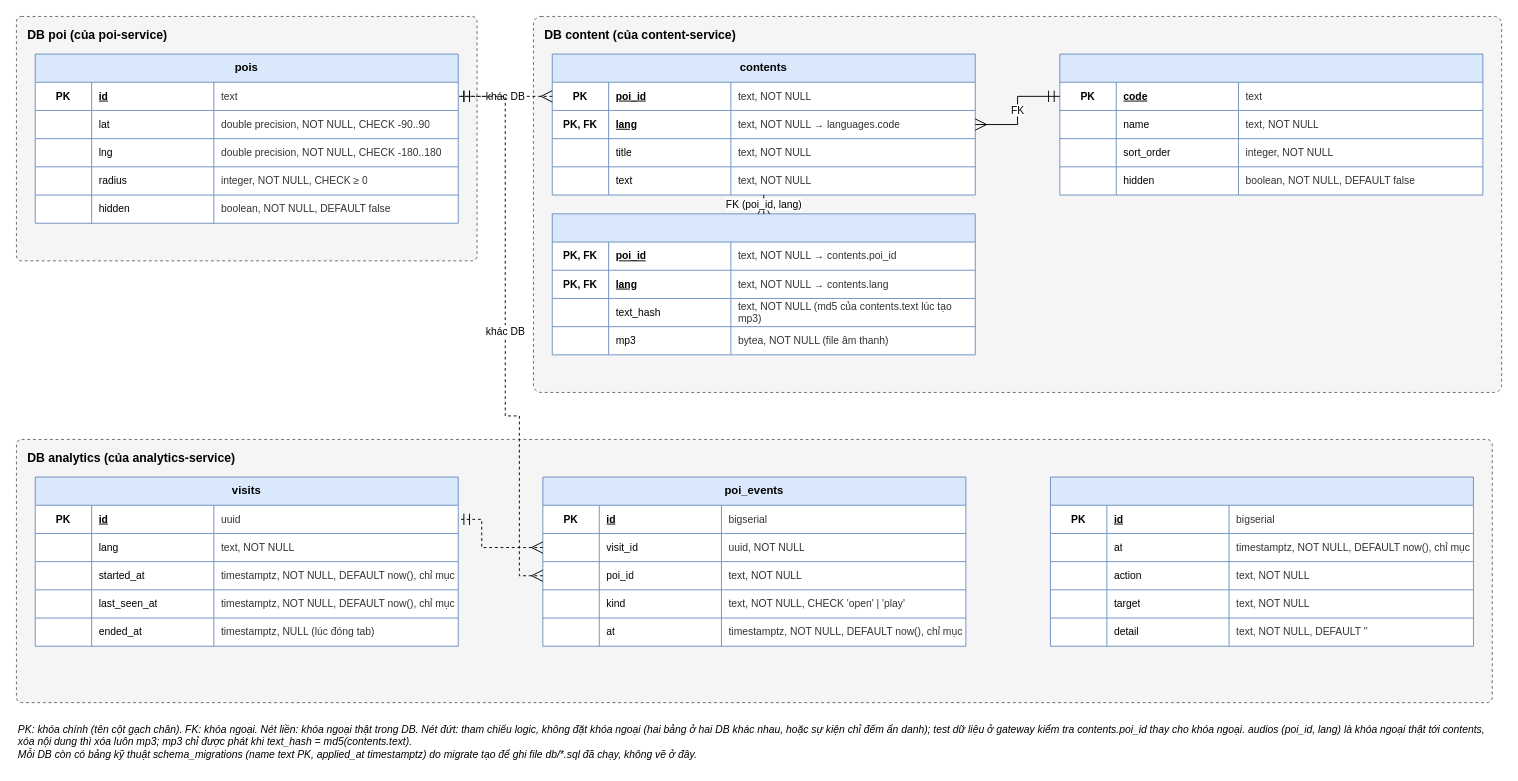
This 1518x781 diagram has some shape labels left out. Each missing label, with the box of its shape:
audios: (551, 213, 975, 355)
changes: (1050, 476, 1473, 646)
languages: (1059, 53, 1483, 195)
